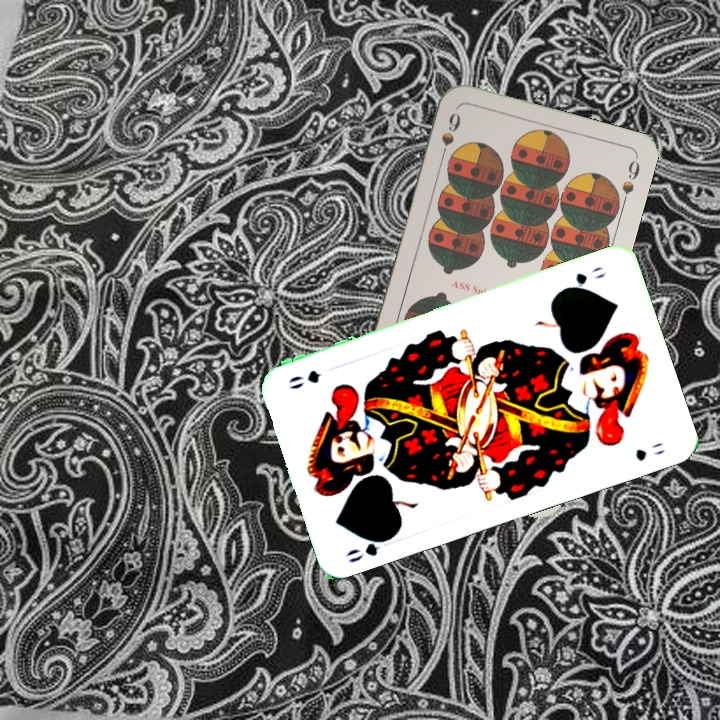GO: (342, 531, 398, 566), (557, 262, 609, 294)
S9: (436, 109, 463, 164)
